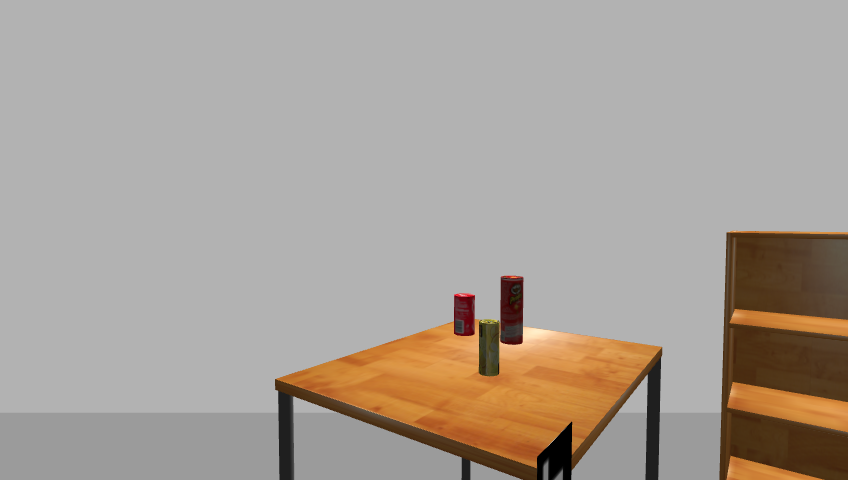aruco marker: (533, 423, 575, 480)
biscuits pack: (477, 319, 501, 377)
bookshelf: (716, 230, 848, 479)
coke can: (452, 293, 476, 337)
dinner table: (267, 321, 672, 480)
pringles can: (498, 275, 526, 347)
